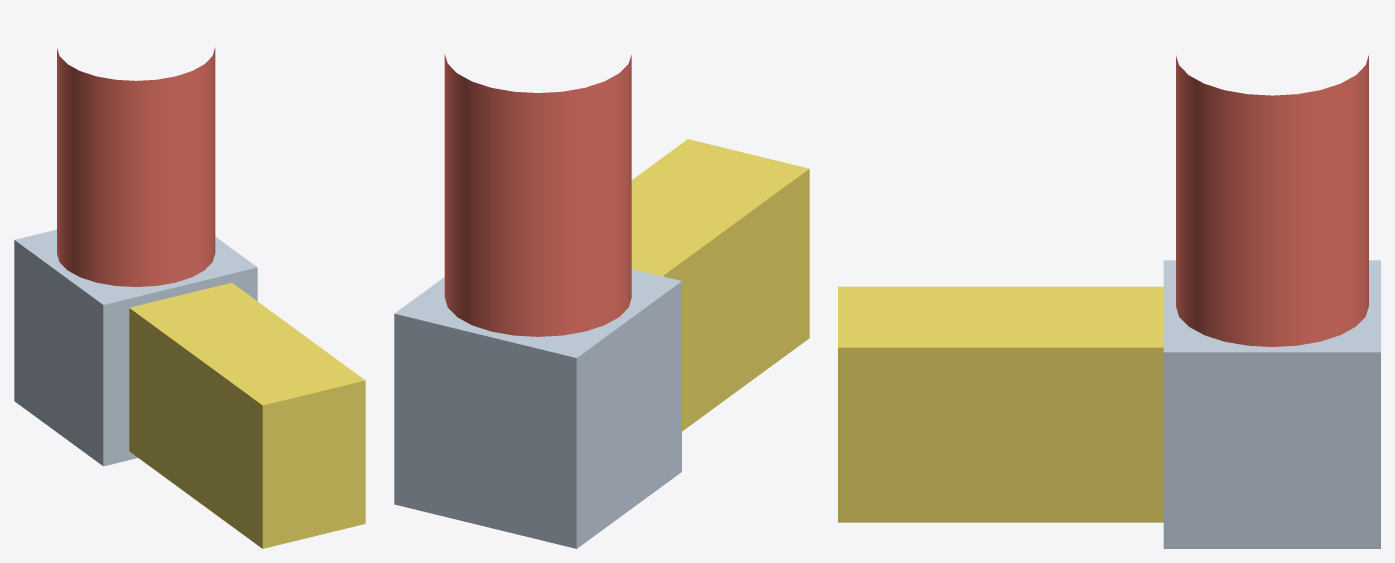
The model's file is is13920_ductile_detailing_confinement.glb.
The picture shows the model from 3 angles, left to right: view 1: azimuth 30°, elevation 25°; view 2: azimuth 150°, elevation 25°; view 3: azimuth 270°, elevation 25°; orthographic projection. The views are drawn at different scales.
Visible parts, largest first — view 1: LongitudinalBeamPlasticHingeZone, CloselySpacedSpecialConfiningHoops, BeamColumnDuctileJointCore; view 2: BeamColumnDuctileJointCore, CloselySpacedSpecialConfiningHoops, LongitudinalBeamPlasticHingeZone; view 3: LongitudinalBeamPlasticHingeZone, CloselySpacedSpecialConfiningHoops, BeamColumnDuctileJointCore.
Boxes of the visible parts, <box> form: LongitudinalBeamPlasticHingeZone: <box>129,282,365,548</box>; CloselySpacedSpecialConfiningHoops: <box>57,48,215,286</box>; BeamColumnDuctileJointCore: <box>14,229,257,466</box>; BeamColumnDuctileJointCore: <box>394,269,681,548</box>; CloselySpacedSpecialConfiningHoops: <box>444,54,631,336</box>; LongitudinalBeamPlasticHingeZone: <box>631,139,809,431</box>; LongitudinalBeamPlasticHingeZone: <box>838,286,1163,522</box>; CloselySpacedSpecialConfiningHoops: <box>1176,55,1368,346</box>; BeamColumnDuctileJointCore: <box>1163,260,1380,548</box>.
Size of the model in its own units: 0.45 by 1.02 by 1.12.
